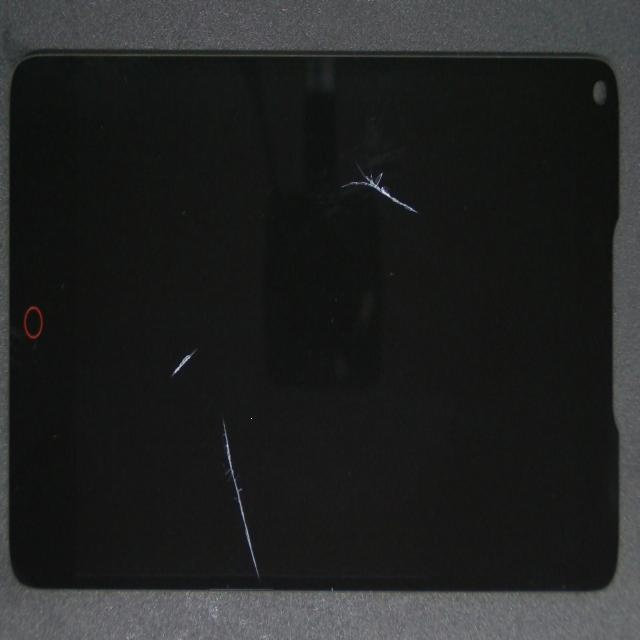scratch: (121, 185, 331, 617), (110, 143, 272, 505), (234, 87, 575, 245)
